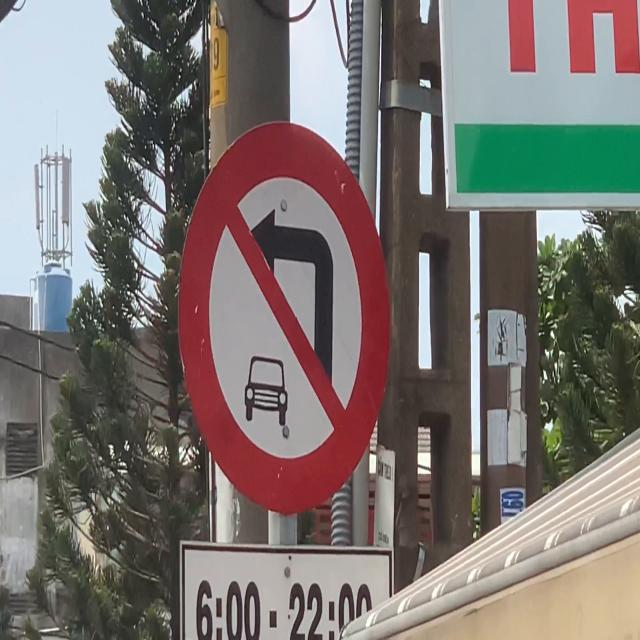Cam re trai: (180, 120, 386, 512)
